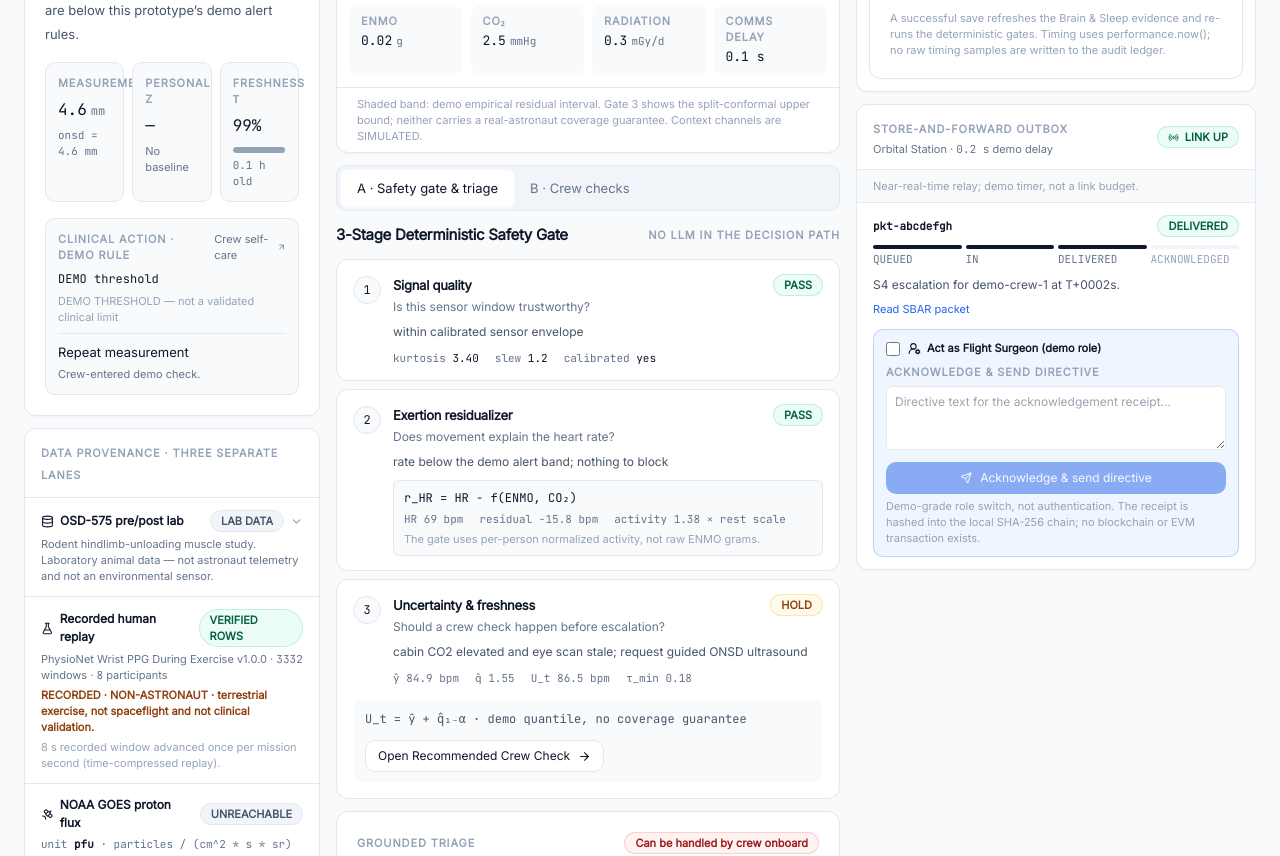
Test: store-and-forward surgeon loop › refuses to send an empty directive and acknowledges a delivered packet
(page scrolled)
Expected: the button "Acknowledge & send directive" is disabled, [886,462,1226,494]
Type "Recheck ONSD in 30 minutes." into the text box labelled "Acknowledge & send directive" at point(1056, 418), box [886,386,1226,450]
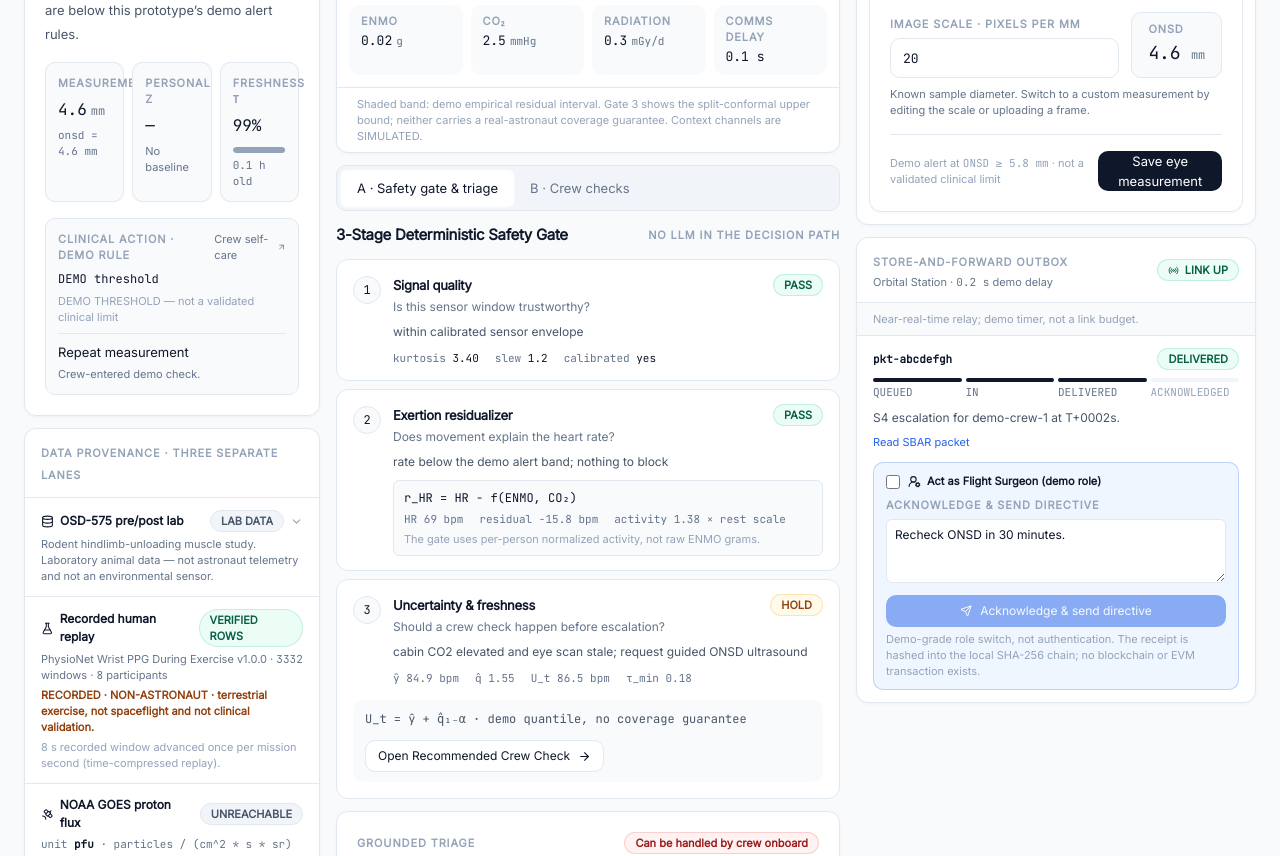
Expected: the button "Acknowledge & send directive" is disabled, [886,595,1226,627]
Click the checkbox labelled "Act as Flight Surgeon (demo role)" at point(893, 482), box [886,475,900,489]
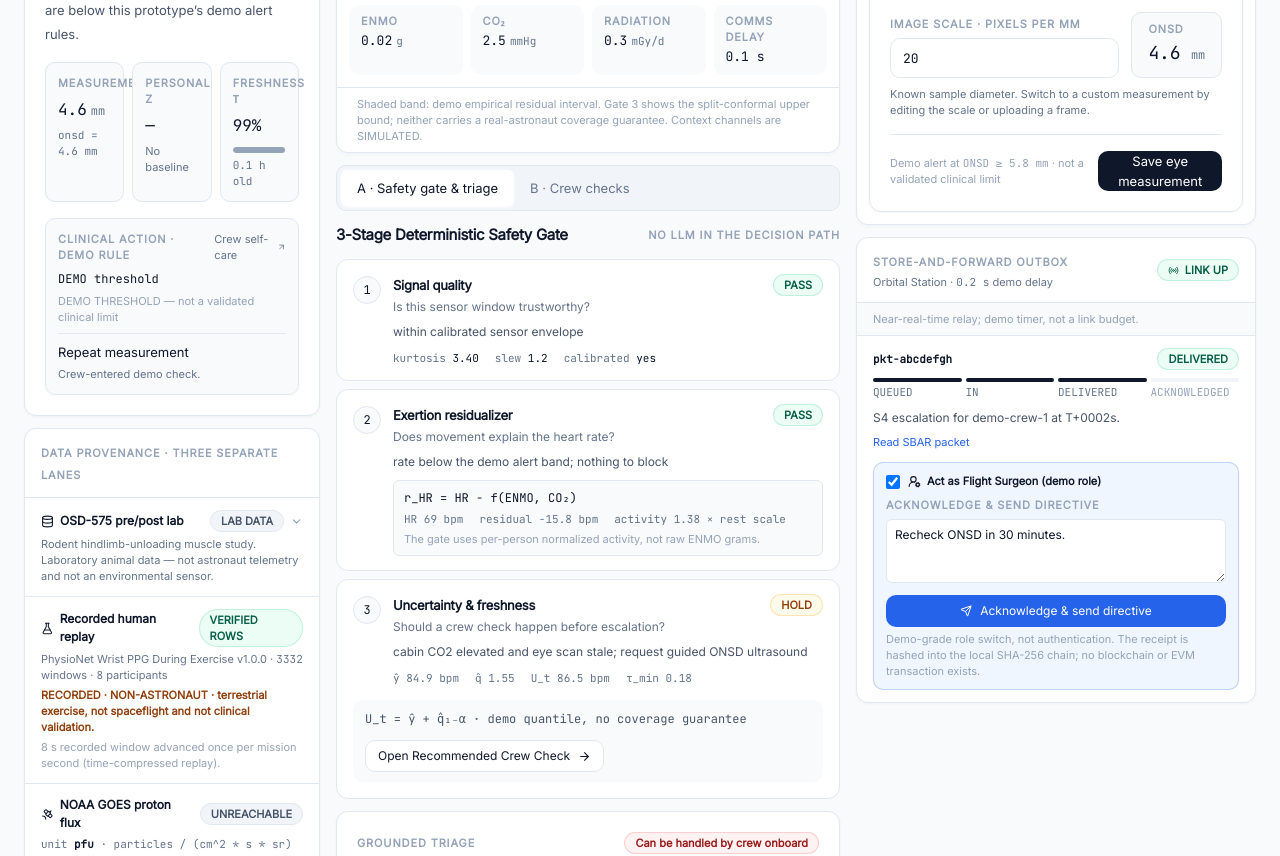
Expected: the button "Acknowledge & send directive" is enabled
Click the button "Acknowledge & send directive" at point(1056, 611), box [886,595,1226,627]
(page scrolled)
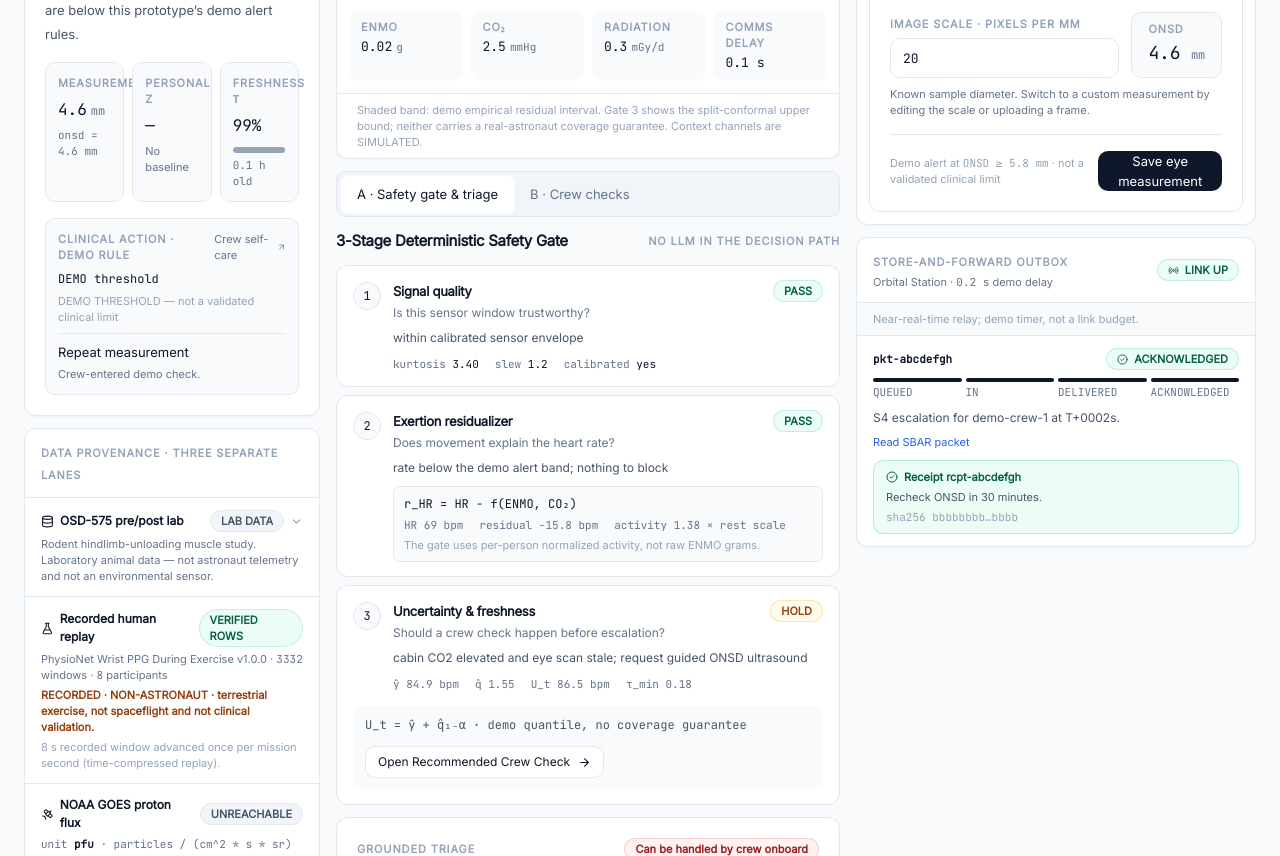
Expected: the text "Receipt rcpt-abcdefgh" is shown, [886,470,1021,484]
